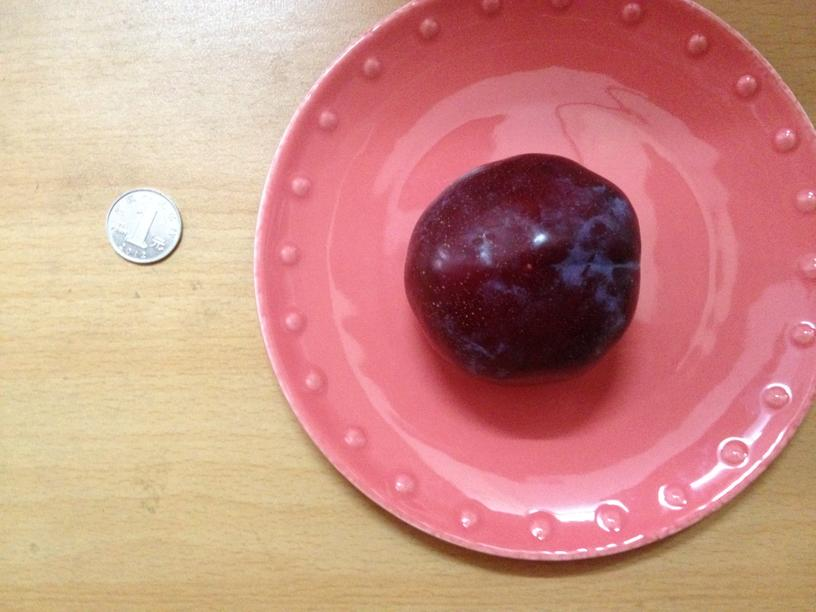coin: (103, 191, 179, 264)
plum: (402, 156, 641, 375)
